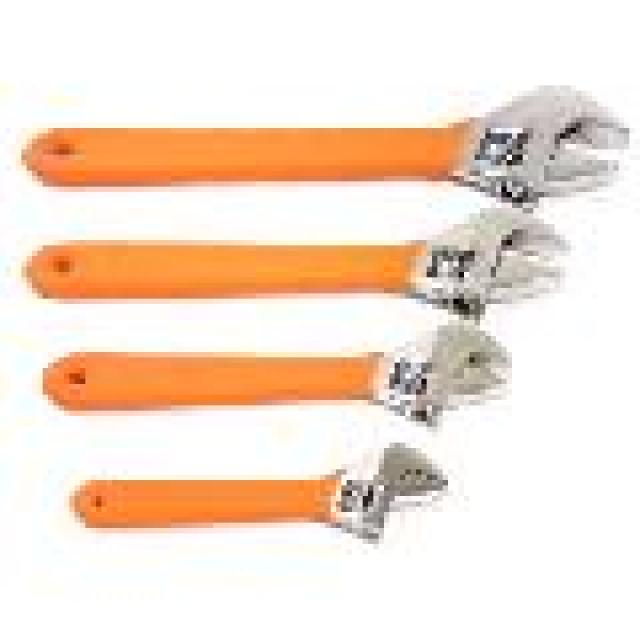wrench: (0, 71, 640, 215), (10, 206, 605, 322), (29, 314, 524, 434), (57, 444, 478, 563)
